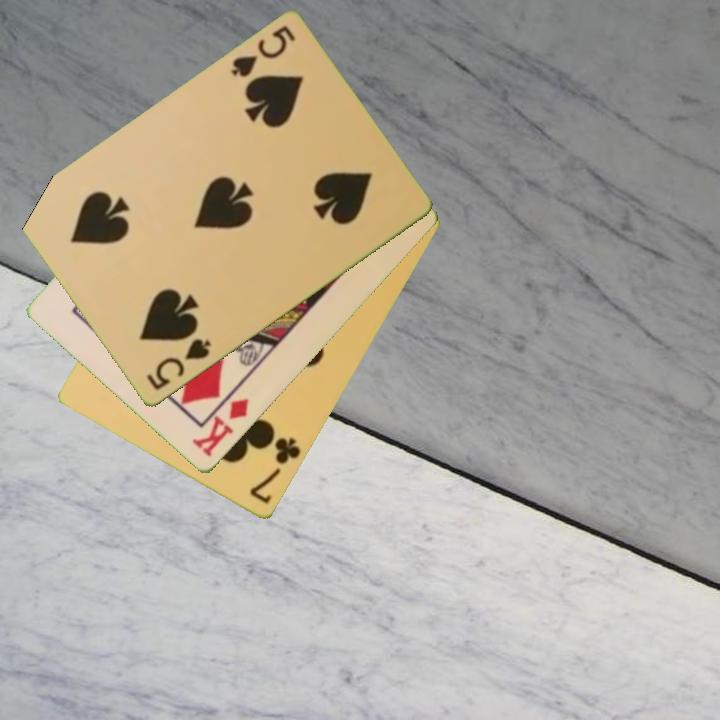5s: (142, 335, 215, 394), (227, 22, 299, 81)
7c: (246, 434, 304, 507)
Kd: (188, 395, 252, 461)
